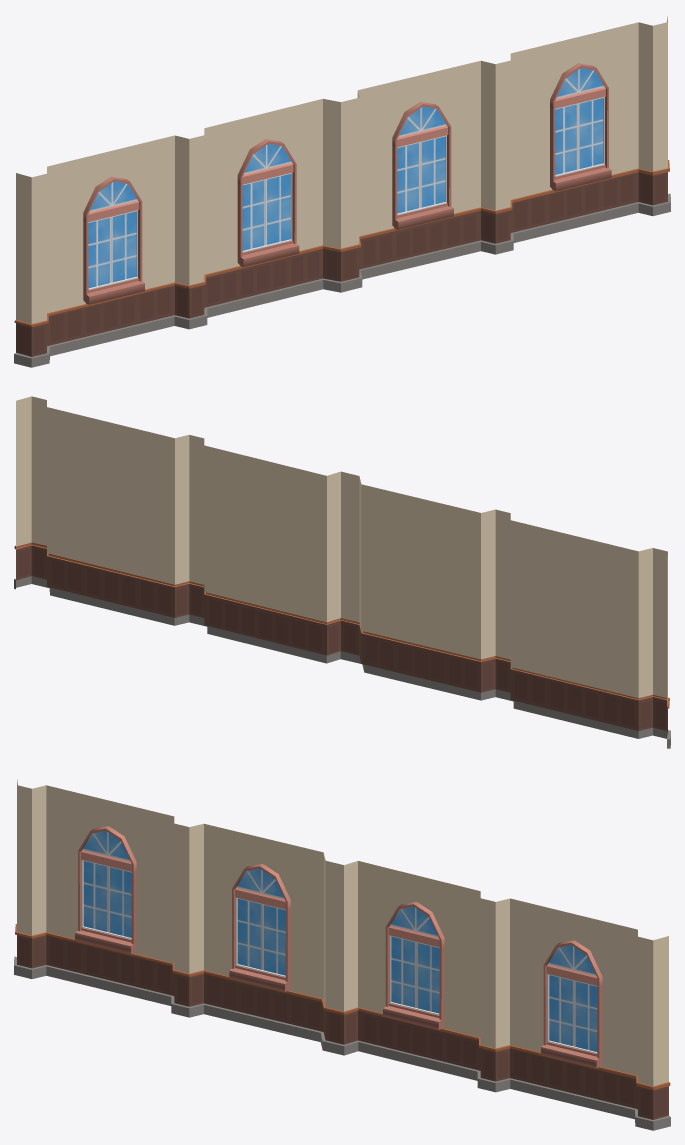
File: Wall02.fbx
3 renders of one model, top to bottom at view 1: azimuth 30°, elevation 25°; view 2: azimuth 150°, elevation 25°; view 3: azimuth 330°, elevation 25°, orthographic.
Parts seen in each view (by area): view 1: Corridor_wall1; view 2: Corridor_wall1; view 3: Corridor_wall1.
Part boxes in pixels (bbox=[...]): Corridor_wall1: bbox=[14, 16, 670, 367]; Corridor_wall1: bbox=[14, 396, 670, 748]; Corridor_wall1: bbox=[14, 779, 670, 1130].
Size of the model in its own units: 1814 by 499 by 48.81.
Materials: 2 (2 with a texture image).
